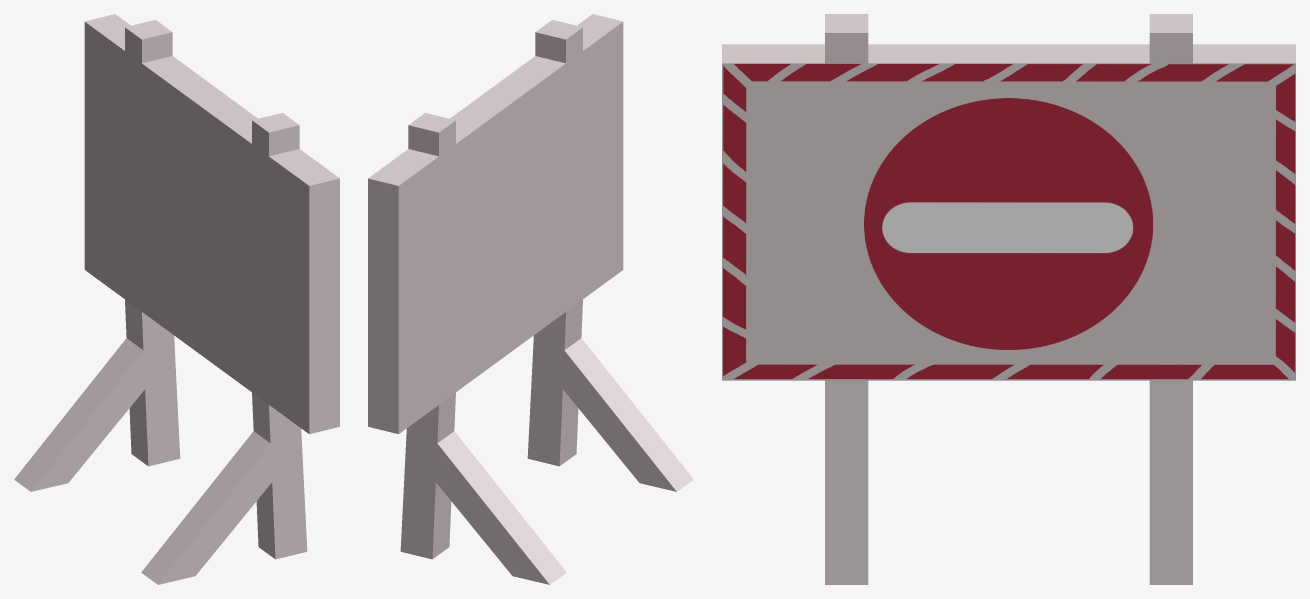
Rendered from blocage.fbx.
3 renders of one model, left to right at view 1: azimuth 30°, elevation 25°; view 2: azimuth 150°, elevation 25°; view 3: azimuth 270°, elevation 25°, orthographic. The views are drawn at different scales.
Parts seen in each view (by area): view 1: Cube.001; view 2: Cube.001; view 3: Cube.001.
Part boxes in pixels (x1,y1,x2,y2): Cube.001: [14, 14, 339, 584]; Cube.001: [368, 14, 693, 584]; Cube.001: [722, 14, 1295, 584].
Size of the model in its own units: 51.7 by 135 by 142.
